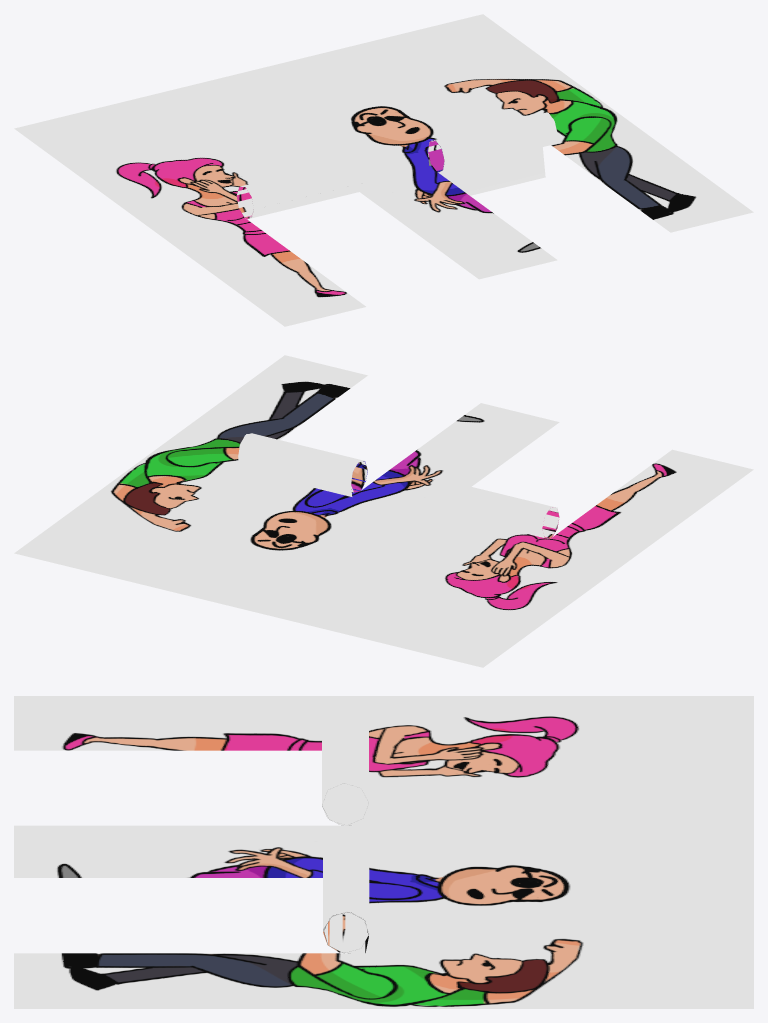
Rendered from Level 195.fbx.
The picture shows the model from 3 angles, top to bottom: view 1: azimuth 30°, elevation 25°; view 2: azimuth 150°, elevation 25°; view 3: azimuth 270°, elevation 25°; orthographic projection. The views are drawn at different scales.
Parts seen in each view (by area): view 1: Mesh, Blend_02, Blend_01; view 2: Mesh, Blend_02, Blend_01; view 3: Mesh, Blend_01, Blend_02.
Part boxes in pixels (box(x1,y1,x2,y2)): Mesh: box(14, 14, 753, 326); Blend_02: box(428, 112, 557, 195); Blend_01: box(236, 159, 366, 219); Mesh: box(14, 355, 753, 667); Blend_02: box(238, 433, 367, 497); Blend_01: box(430, 479, 559, 544); Mesh: box(14, 696, 753, 1008); Blend_01: box(322, 708, 369, 825); Blend_02: box(323, 836, 369, 953).
Bounding box in the file's own units: 2400 × 330 × 2400.
